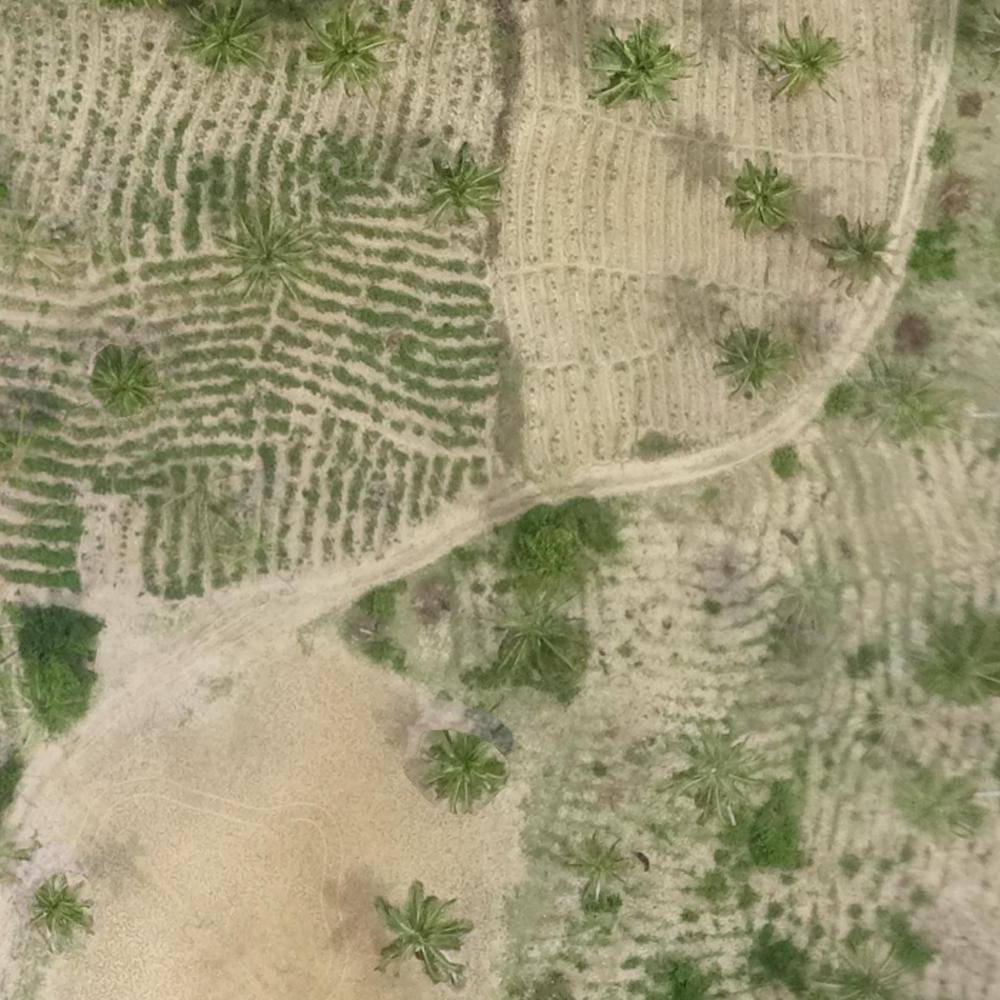Palm: (668, 724, 760, 822), (297, 6, 394, 95), (586, 24, 683, 113), (375, 885, 468, 976), (220, 208, 311, 298), (176, 5, 270, 76), (761, 19, 845, 95), (421, 146, 501, 223), (814, 213, 895, 289), (428, 729, 503, 806), (82, 350, 162, 421), (714, 322, 786, 397), (721, 160, 791, 233), (26, 873, 95, 946), (568, 830, 634, 898)
